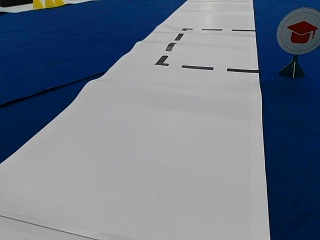school: (277, 7, 318, 54)
